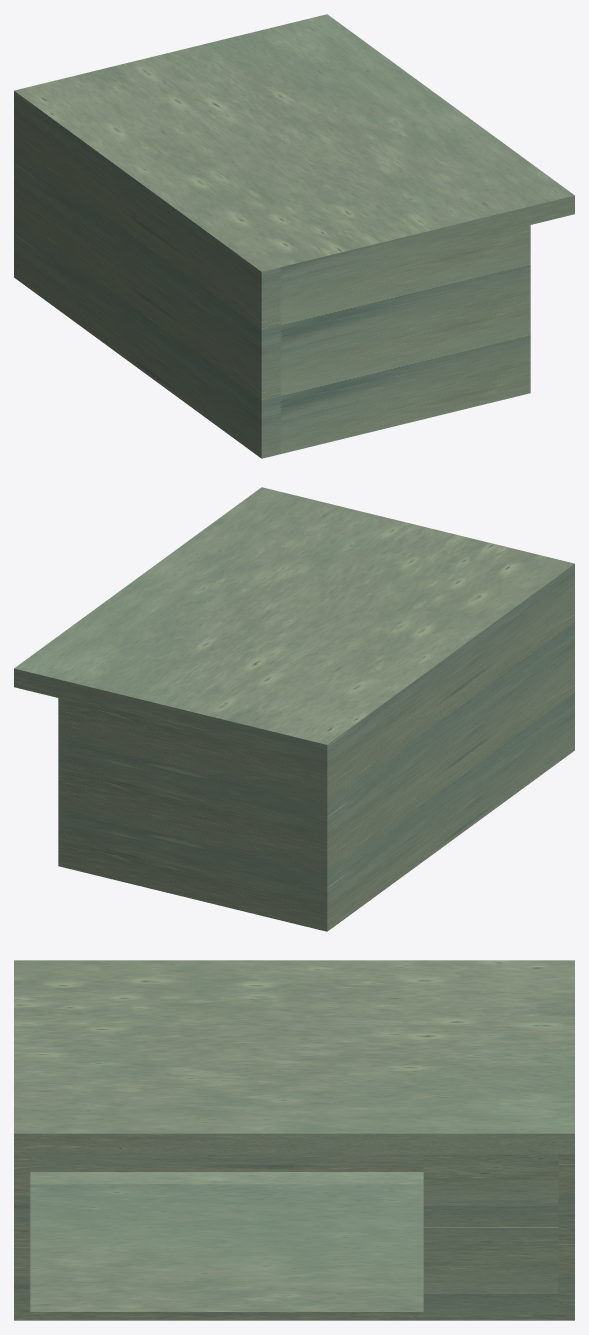
The model's file is desk_human_lab.fbx.
3 views of the same model, one above another, from view 1: azimuth 30°, elevation 25°; view 2: azimuth 150°, elevation 25°; view 3: azimuth 270°, elevation 25° (orthographic). The views are drawn at different scales.
Visible parts, largest first — view 1: Desk; view 2: Desk; view 3: Desk.
Part boxes in pixels (x1=…): Desk: x1=14, y1=14, x2=574, y2=458; Desk: x1=14, y1=487, x2=574, y2=931; Desk: x1=14, y1=960, x2=574, y2=1320.
Size of the model in its own units: 304 by 173 by 417.
1 material, 1 textured.
